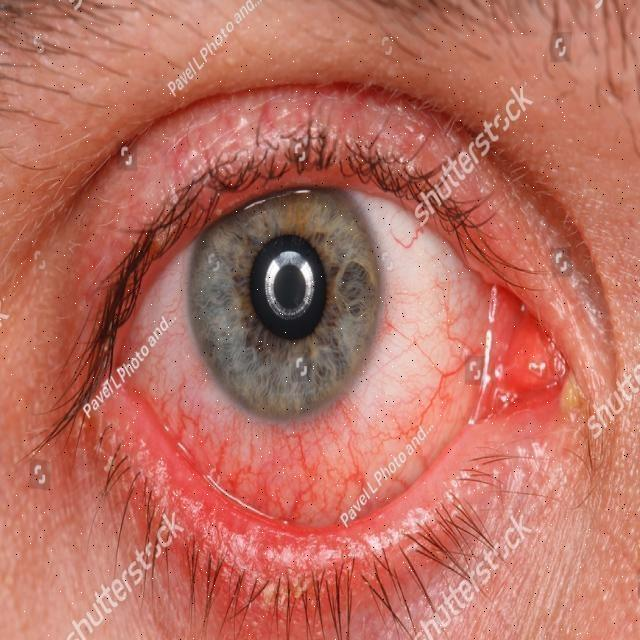Conjunctivitis: (78, 203, 577, 523)
